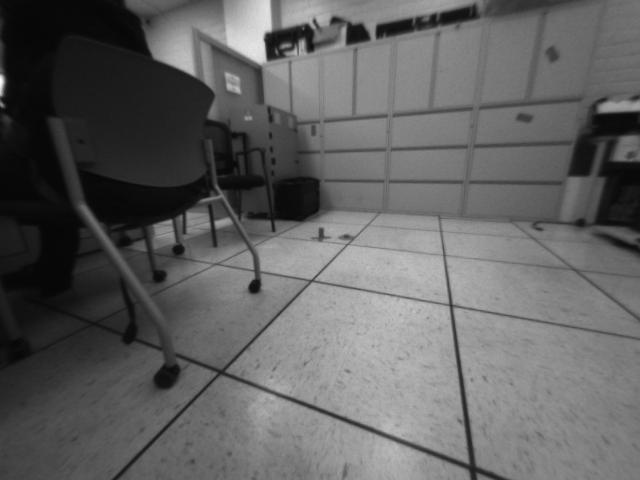X: (310, 226, 332, 243)
